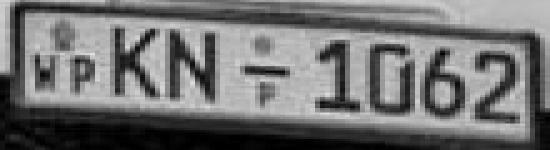-: (239, 61, 301, 82)
0: (364, 38, 420, 118)
1: (307, 36, 366, 116)
2: (470, 46, 530, 129)
6: (420, 44, 470, 121)
K: (102, 19, 165, 102)
N: (162, 24, 228, 107)
P: (69, 52, 100, 97)
W: (29, 51, 68, 94)
